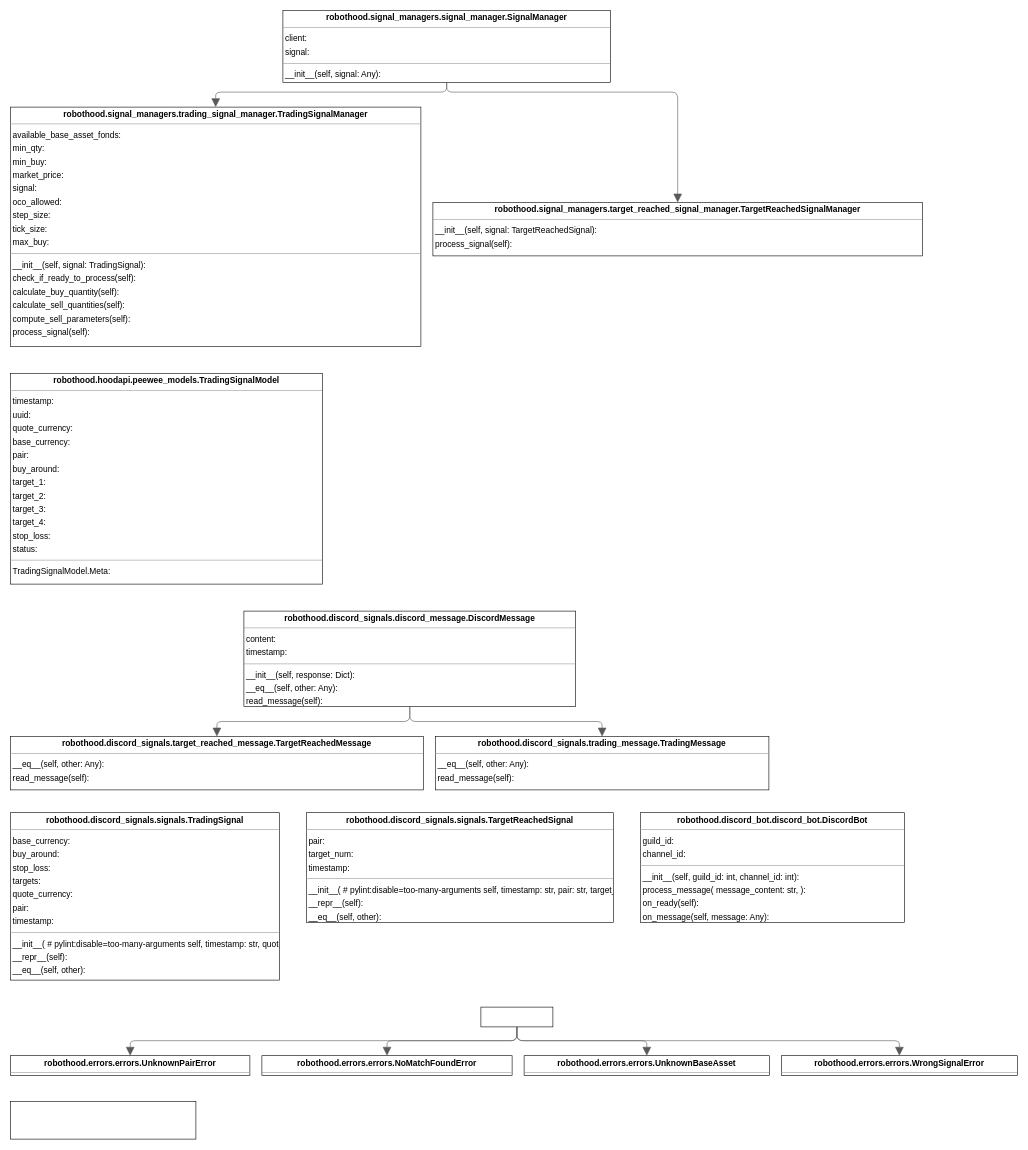
Image size: 1028x1150. Some labels were removed from this diagram. The centre of each missing label's shape, as x and y in pixels:
"Exception" belongs at point 516,1016.
"robothood.RobotHoodLogFilter filter(self, record: LogRecord):" belongs at point 103,1120.
